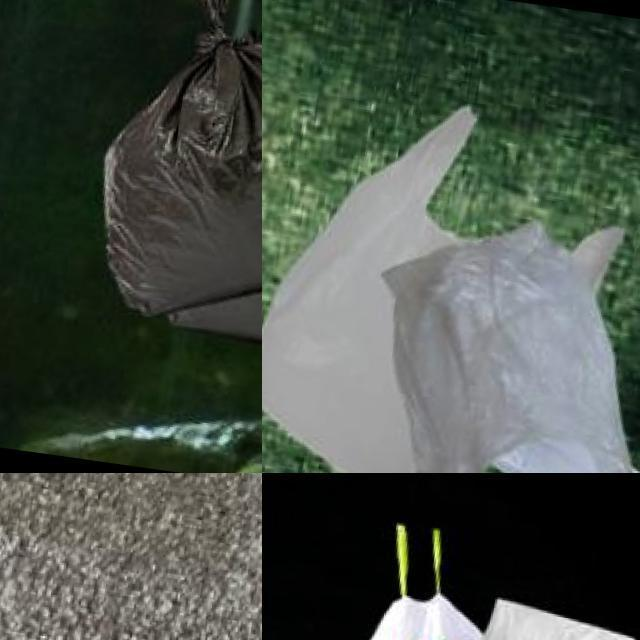waste: (262, 77, 638, 473), (345, 204, 640, 473), (77, 0, 262, 370), (262, 588, 633, 640)
